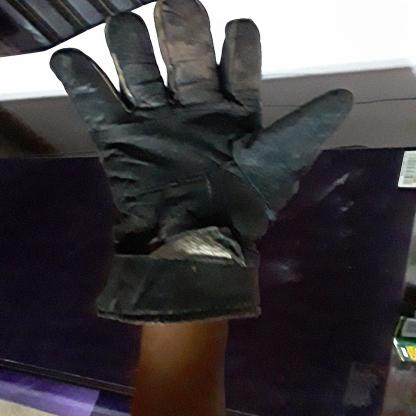gloved_hand: (46, 0, 356, 331)
